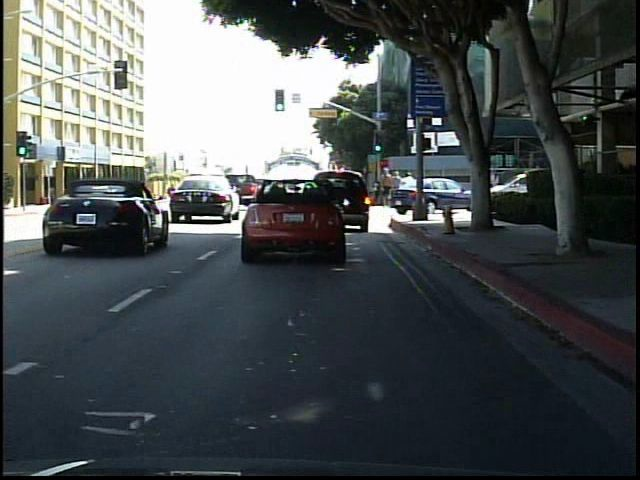person: (550, 151, 576, 242), (378, 165, 398, 211), (114, 176, 132, 203)
